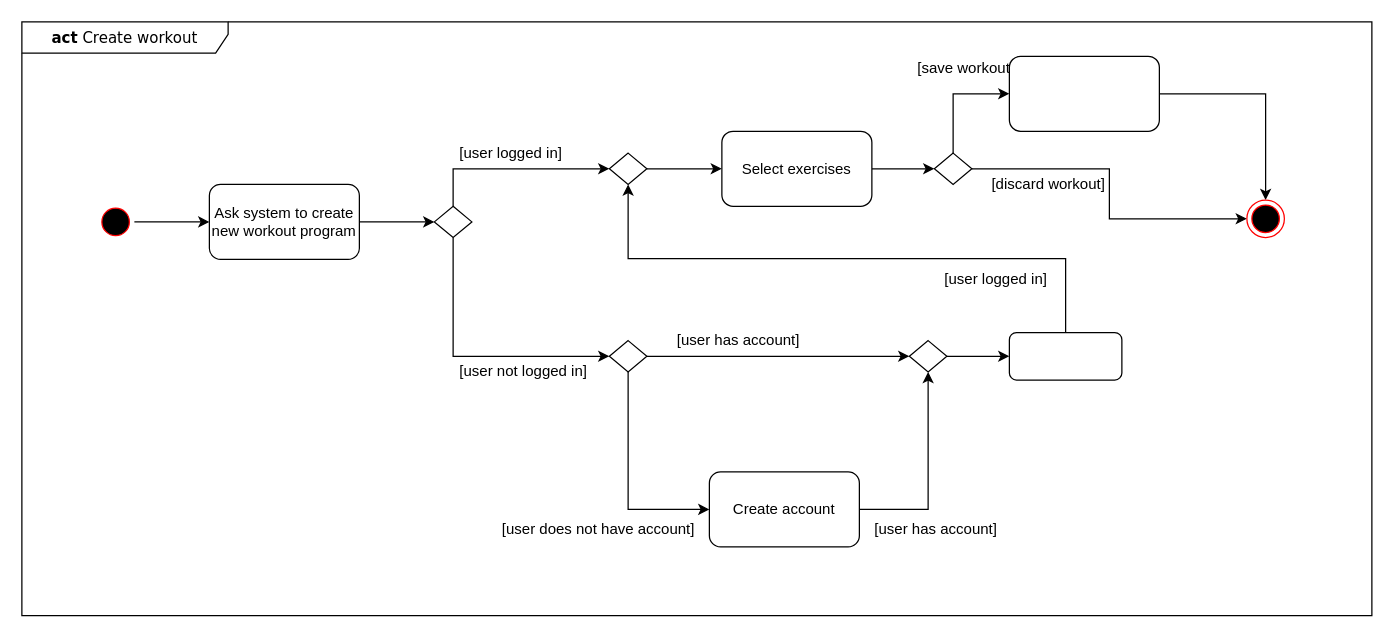
Image size: 1394x638. Some labels were removed from this diagram. The shapes that lost their labels are listed below. From the top down, each one's centre as x and y in pixels, then its label:
At (x=1083, y=93): "System saves workout program to user profile".
At (x=1065, y=355): "Login".
